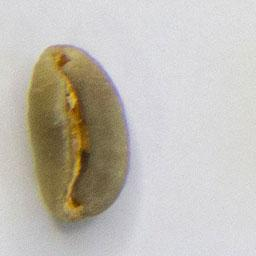longberry: (25, 41, 134, 226)
